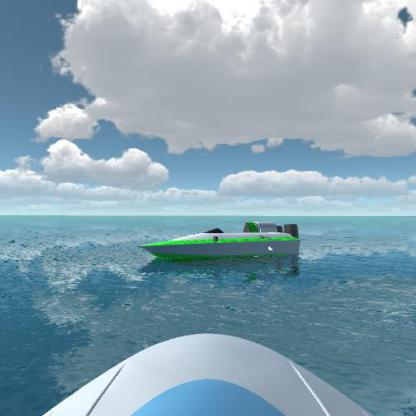usv0: (124, 208, 312, 274)
